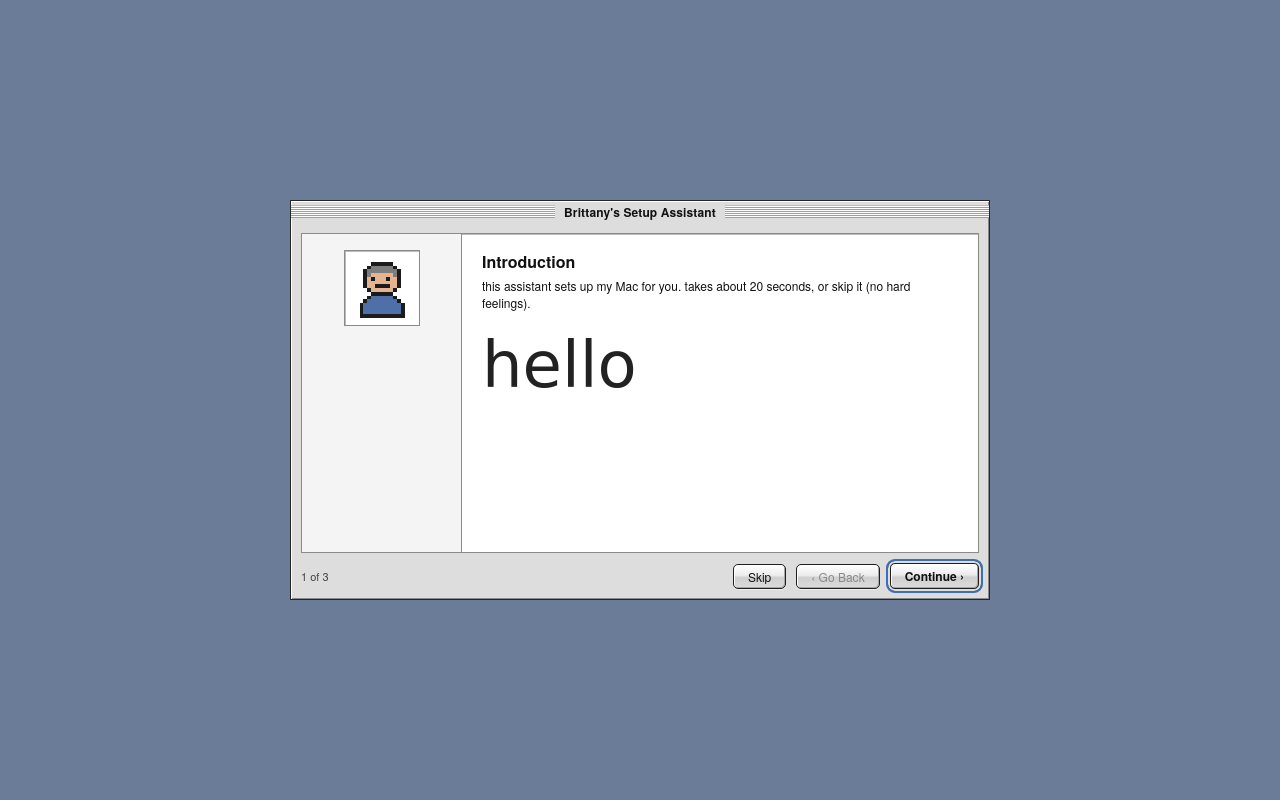
SetupFlow › three steps as 'I'm hiring' then Go Ahead opens the landing windows and stores the choice
The width and height of the screenshot is (1280, 800).
Click the button "Continue ›".
click(934, 576)  # box [890,563,979,589]
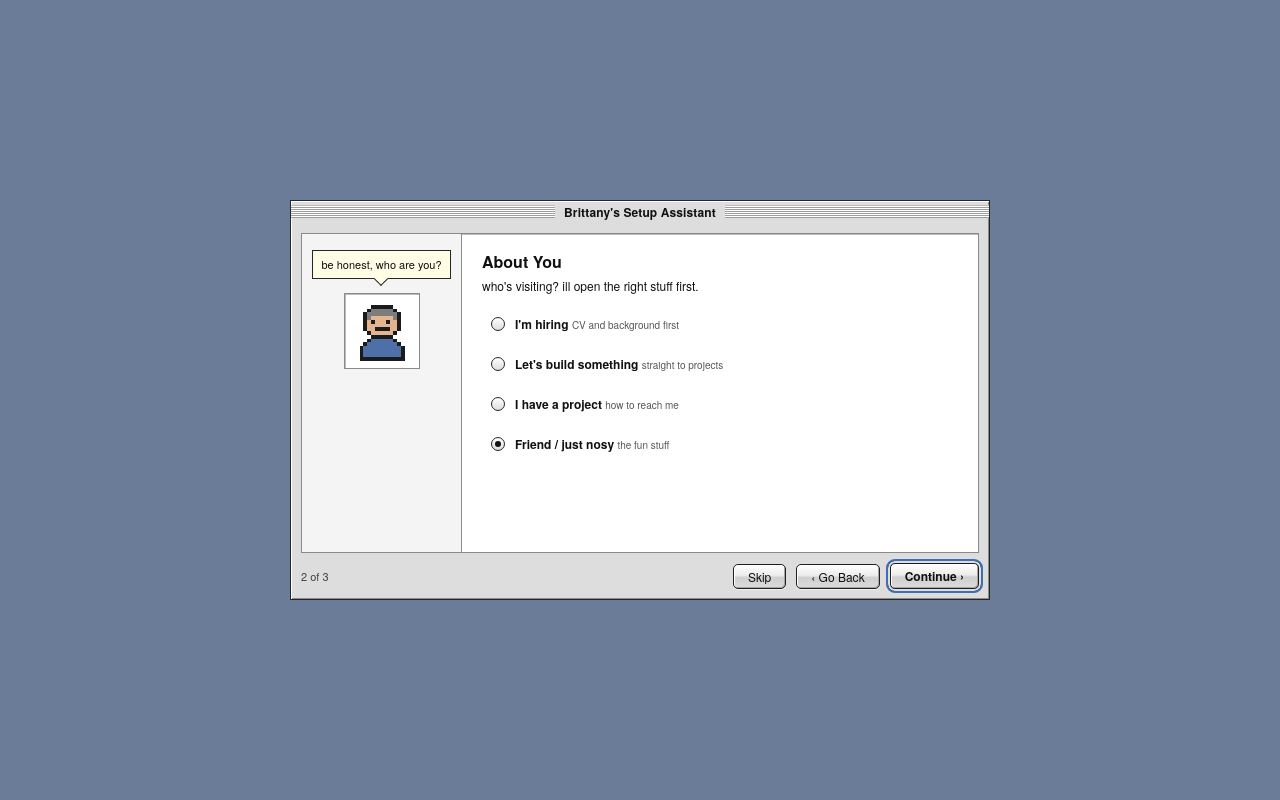
Click the radio button labelled "I'm hiring CV and background first".
click(542, 324)  # box [482,308,958,340]
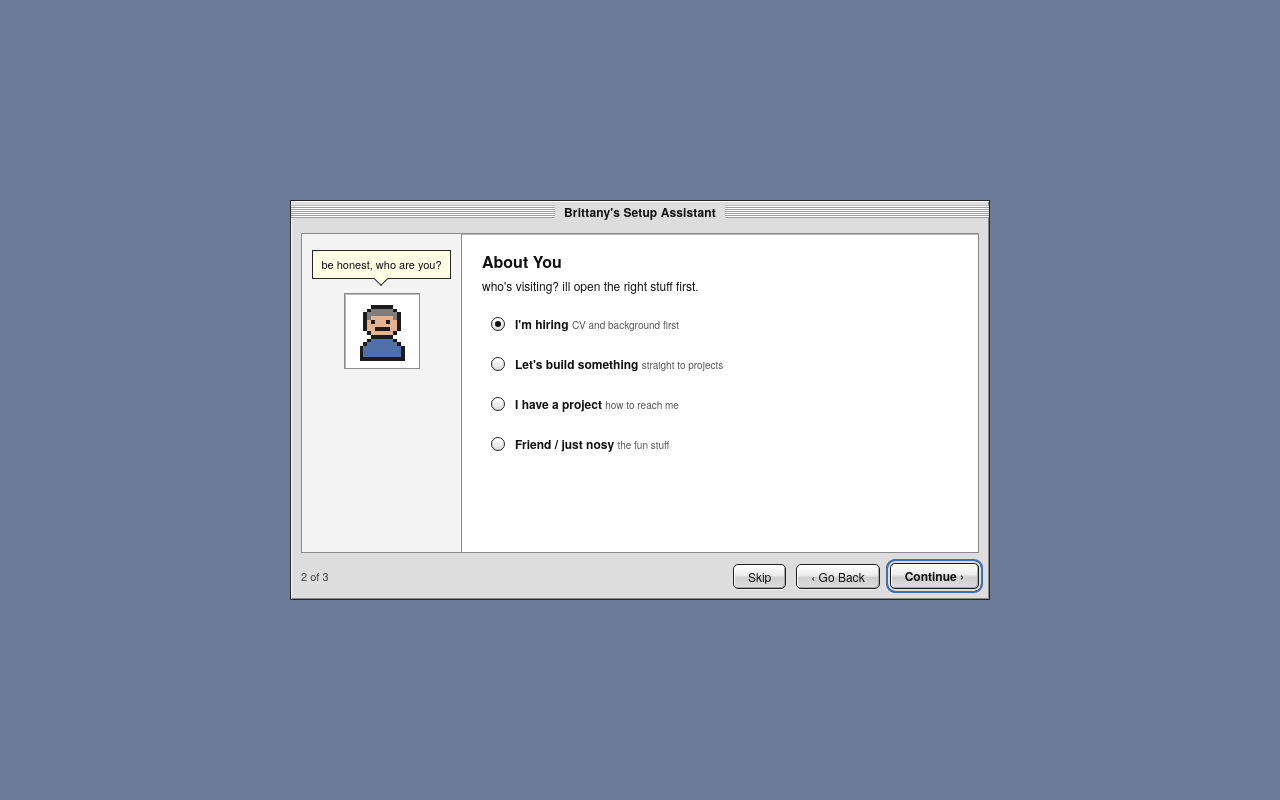
Click the button "Continue ›".
click(934, 576)  # box [890,563,979,589]
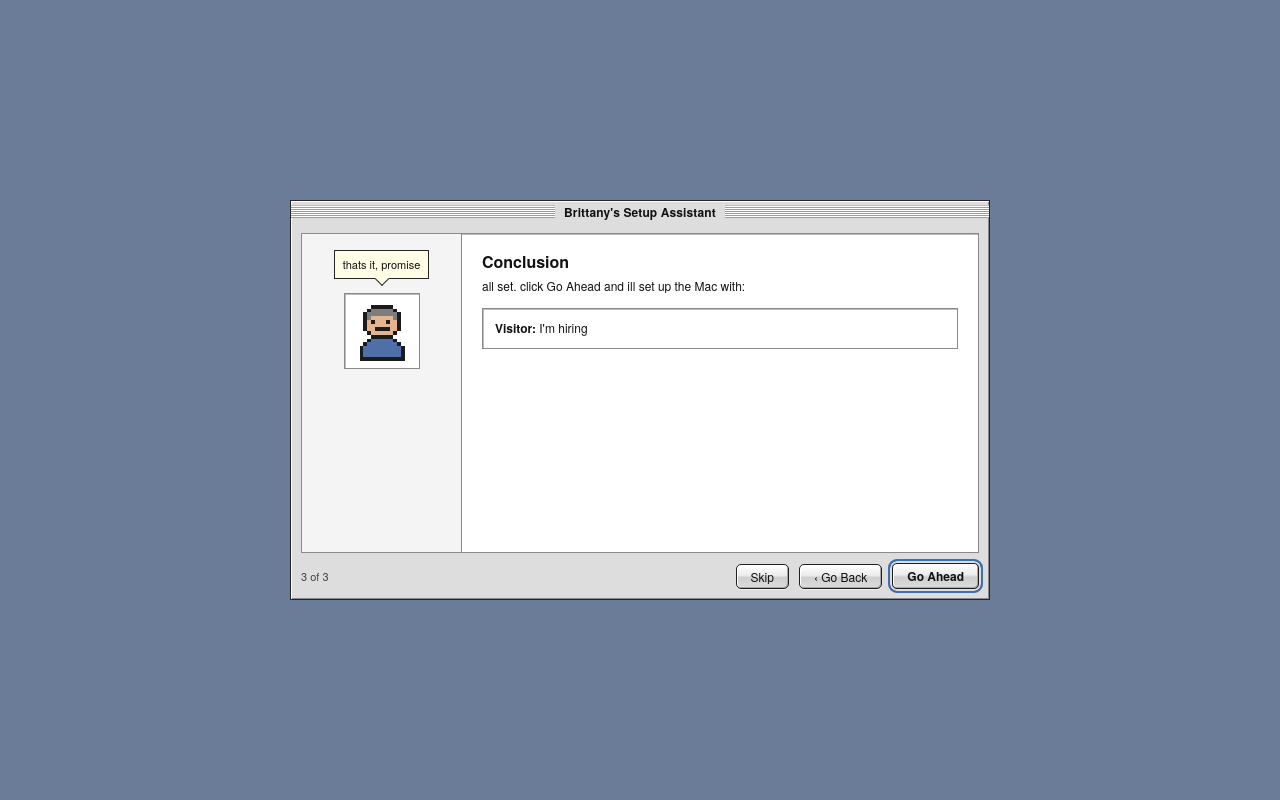
Now the text "3 of 3" is shown, box [301,568,328,584]
Click the button "Go Ahead".
click(936, 576)  # box [892,563,979,589]
Wait 20000 ms
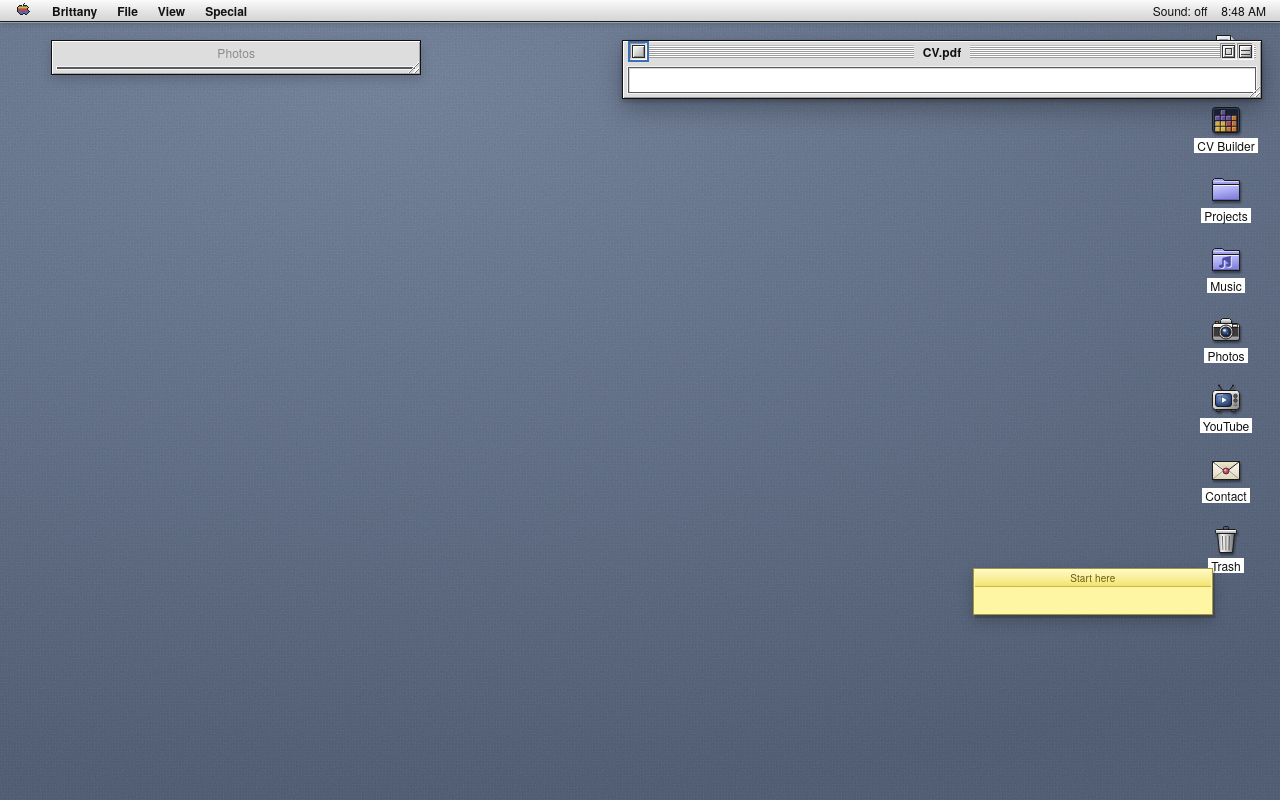
Now the text "Brittany's Setup Assistant" is gone
